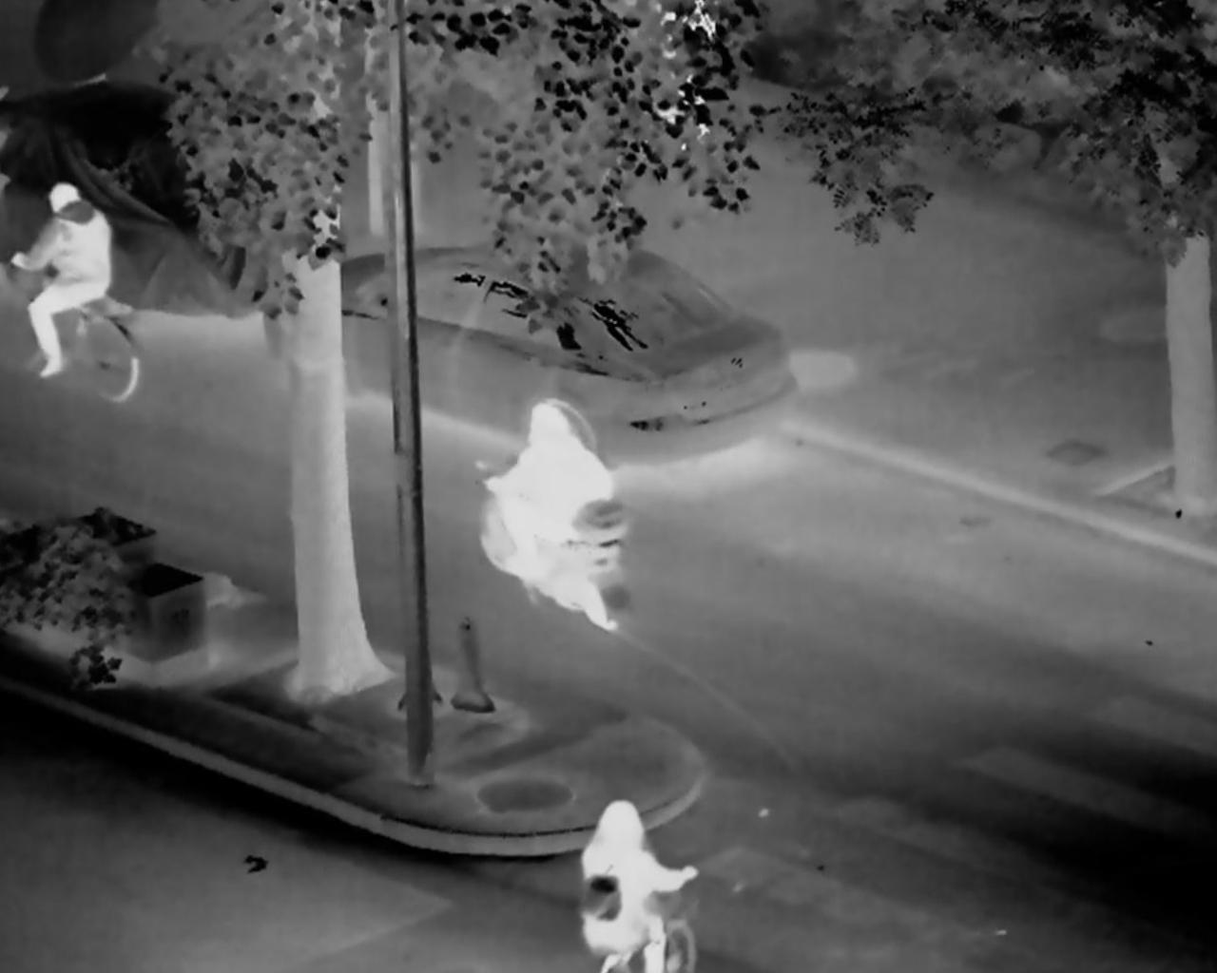person: (490, 388, 624, 623), (543, 785, 696, 973), (14, 182, 128, 404), (629, 2, 731, 132)
